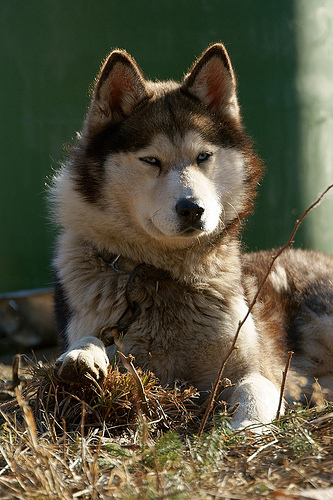dog: (46, 42, 331, 442)
